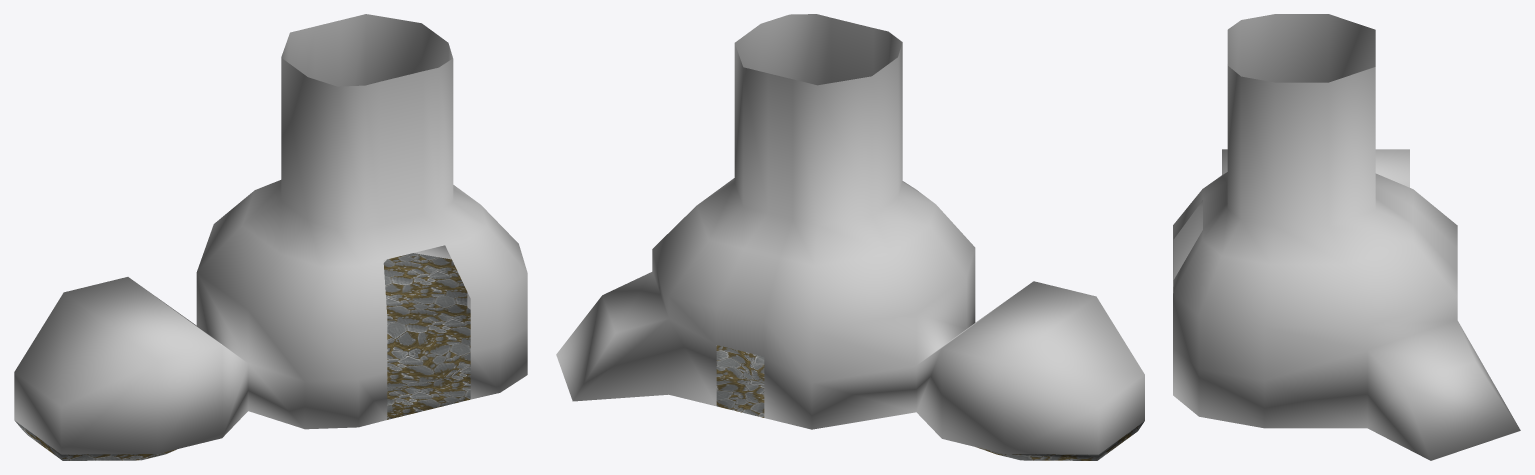
File: Flooded Shaft Shell.fbx
The picture shows the model from 3 angles, left to right: view 1: azimuth 30°, elevation 25°; view 2: azimuth 150°, elevation 25°; view 3: azimuth 270°, elevation 25°; orthographic projection. The views are drawn at different scales.
Parts seen in each view (by area): view 1: Plane; view 2: Plane; view 3: Plane.
Part boxes in pixels (x1=…): Plane: x1=14, y1=14, x2=527, y2=460; Plane: x1=556, y1=14, x2=1144, y2=460; Plane: x1=1173, y1=14, x2=1520, y2=460.
Bounding box in the file's own units: 11836 × 7106 × 6829.
